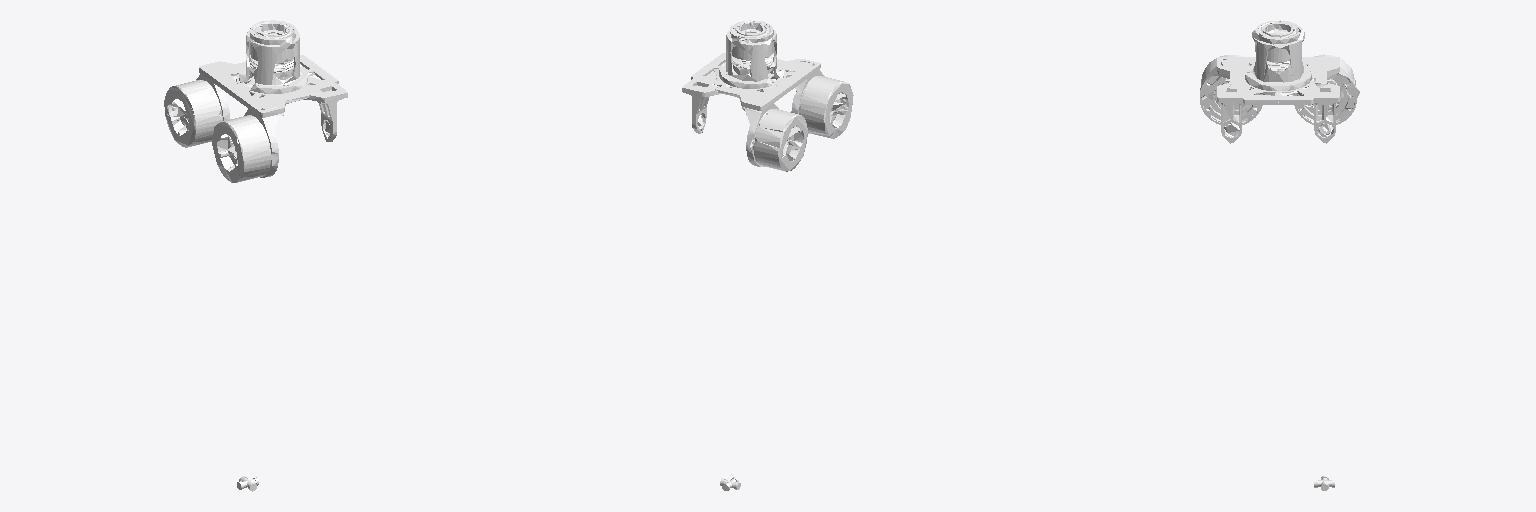
The robot description file, URDF, robot "biped_s31":
<?xml version='1.0' encoding='utf-8'?>
<robot name="biped_s31">
  <mujoco>
    <compiler meshdir="../meshes/" balanceinertia="true" discardvisual="false" />
  </mujoco>
  <link name="dummy_link" />
  <link name="base_link">
    <inertial>
      <origin xyz="-0.00505 0.0014 0.18077" rpy="0 0 0" />
      <mass value="25.4544" />
      <inertia ixx="0.28214" ixy="3e-05" ixz="0.01114" iyy="0.20534" iyz="0.00044" izz="0.13735" />
    </inertial>
    <visual>
      <origin xyz="0 0 0" rpy="0 0 0" />
      <geometry>
        <mesh filename="package://kuavo_assets/models/biped_s41/meshes/base_link.STL" />
      </geometry>
      <material name="">
        <color rgba="1 1 1 1" />
      </material>
    </visual>
  </link>
  <joint name="base_link_to_dummy_link" type="fixed">
    <origin xyz="0 0 0" rpy="0 0 0" />
    <parent link="base_link" />
    <child link="dummy_link" />
  </joint>
  <link name="leg_l1_link">
    <inertial>
      <origin xyz="-0.00430148 -2.708e-05 -0.00851195" rpy="0 0 0" />
      <mass value="1.71093115" />
      <inertia ixx="0.00206092" ixy="1.97e-06" ixz="6.944e-05" iyy="0.00277274" iyz="-5.1e-06" izz="0.00370826" />
    </inertial>
    <visual>
      <origin xyz="0 0 0" rpy="0 0 0" />
      <geometry>
        <mesh filename="package://kuavo_assets/models/biped_s41/meshes/l_leg_roll.STL" />
      </geometry>
      <material name="">
        <color rgba="1 1 1 1" />
      </material>
    </visual>
  </link>
  <joint name="leg_l1_joint" type="revolute">
    <origin xyz="-0.0025 0.087 -0.066" rpy="0 0 0" />
    <parent link="base_link" />
    <child link="leg_l1_link" />
    <axis xyz="1 0 0" />
    <limit lower="-0.314159265358979" upper="0.663225115757845" effort="180.0" velocity="23.55" />
  </joint>
  <link name="leg_l2_link">
    <inertial>
      <origin xyz="0.0 -0.00231118 -0.09062539" rpy="0 0 0" />
      <mass value="0.58029165" />
      <inertia ixx="0.00223984" ixy="0.0" ixz="3e-08" iyy="0.00123175" iyz="-6.98e-06" izz="0.00146391" />
    </inertial>
    <visual>
      <origin xyz="0 0 0" rpy="0 0 0" />
      <geometry>
        <mesh filename="package://kuavo_assets/models/biped_s41/meshes/l_leg_yaw.STL" />
      </geometry>
      <material name="">
        <color rgba="1 1 1 1" />
      </material>
    </visual>
  </link>
  <joint name="leg_l2_joint" type="revolute">
    <origin xyz="0 0 0" rpy="0 0 0" />
    <parent link="leg_l1_link" />
    <child link="leg_l2_link" />
    <axis xyz="0 0 1" />
    <limit lower="-0.872664625997165" upper="0.785398163397448" effort="100.0" velocity="41.3433333333333" />
  </joint>
  <link name="leg_l3_link">
    <inertial>
      <origin xyz="0.00150537 0.01199614 -0.08411619" rpy="0 0 0" />
      <mass value="4.50393141" />
      <inertia ixx="0.0389365" ixy="7.866e-05" ixz="0.00102086" iyy="0.03942609" iyz="0.00219138" izz="0.00999961" />
    </inertial>
    <visual>
      <origin xyz="0 0 0" rpy="0 0 0" />
      <geometry>
        <mesh filename="package://kuavo_assets/models/biped_s41/meshes/l_leg_pitch.STL" />
      </geometry>
      <material name="">
        <color rgba="1 1 1 1" />
      </material>
    </visual>
  </link>
  <joint name="leg_l3_joint" type="revolute">
    <origin xyz="0.000500354536093913 -0.00100000000000011 -0.1287" rpy="0 0 0" />
    <parent link="leg_l2_link" />
    <child link="leg_l3_link" />
    <axis xyz="0 1 0" />
    <limit lower="-2.00712863979348" upper="1.5707963267949" effort="100.0" velocity="41.3433333333333" />
  </joint>
  <link name="leg_l4_link">
    <inertial>
      <origin xyz="0.00696242 5.314e-05 -0.11549851" rpy="0 0 0" />
      <mass value="1.62776815" />
      <inertia ixx="0.01243912" ixy="-2.29e-06" ixz="5.881e-05" iyy="0.01229563" iyz="-2.895e-05" izz="0.00097937" />
    </inertial>
    <visual>
      <origin xyz="0 0 0" rpy="0 0 0" />
      <geometry>
        <mesh filename="package://kuavo_assets/models/biped_s41/meshes/l_knee.STL" />
      </geometry>
      <material name="">
        <color rgba="1 1 1 1" />
      </material>
    </visual>
  </link>
  <joint name="leg_l4_joint" type="revolute">
    <origin xyz="-6.87185435835039E-05 0 -0.284" rpy="0 0 0" />
    <parent link="leg_l3_link" />
    <child link="leg_l4_link" />
    <axis xyz="0 1 0" />
    <limit lower="0.0" upper="2.53072741539178" effort="180.0" velocity="23.55" />
  </joint>
  <link name="leg_l5_link">
    <inertial>
      <origin xyz="0.0 0.0 0.0" rpy="0 0 0" />
      <mass value="0.07193524" />
      <inertia ixx="6.92e-06" ixy="0.0" ixz="0.0" iyy="6.92e-06" iyz="0.0" izz="1.218e-05" />
    </inertial>
    <visual>
      <origin xyz="0 0 0" rpy="0 0 0" />
      <geometry>
        <mesh filename="package://kuavo_assets/models/biped_s41/meshes/l_foot_pitch.STL" />
      </geometry>
      <material name="">
        <color rgba="1 1 1 1" />
      </material>
    </visual>
  </link>
  <joint name="leg_l5_joint" type="revolute">
    <origin xyz="-0.000431635992531742 0 -0.346000000000001" rpy="0 0 0" />
    <parent link="leg_l4_link" />
    <child link="leg_l5_link" />
    <axis xyz="0 1 0" />
    <limit lower="-0.872664625997165" upper="0.349065850398866" effort="36.0" velocity="23.0266666666667" />
  </joint>
  <link name="leg_l6_link">
    <inertial>
      <origin xyz="0.03732754 -2.22e-06 -0.03883977" rpy="0 0 0" />
      <mass value="0.49861272" />
      <inertia ixx="0.00039242" ixy="3e-08" ixz="4.664e-05" iyy="0.00158655" iyz="0.0" izz="0.00172576" />
    </inertial>
    <visual>
      <origin xyz="0 0 0" rpy="0 0 0" />
      <geometry>
        <mesh filename="package://kuavo_assets/models/biped_s41/meshes/l_foot_roll.STL" />
      </geometry>
      <material name="">
        <color rgba="1 1 1 1" />
      </material>
    </visual>
  </link>
  <joint name="leg_l6_joint" type="revolute">
    <origin xyz="0 0 0" rpy="0 0 0" />
    <parent link="leg_l5_link" />
    <child link="leg_l6_link" />
    <axis xyz="1 0 0" />
    <limit lower="-0.261799387799149" upper="0.261799387799149" effort="36.0" velocity="23.0266666666667" />
  </joint>
  <link name="ll_foot_toe">
    <collision>
      <origin rpy="0 0 0" xyz="0 0 0" />
      <geometry>
        <sphere radius="0.005" />
      </geometry>
    </collision>
  </link>
  <joint name="ll_foot_toe_joint" type="fixed">
    <origin xyz="0.17084 0.04773 -0.0595" rpy="0 0 0" />
    <parent link="leg_l6_link" />
    <child link="ll_foot_toe" />
  </joint>
  <link name="ll_foot_heel">
    <collision>
      <origin rpy="0 0 0" xyz="0 0 0" />
      <geometry>
        <sphere radius="0.005" />
      </geometry>
    </collision>
  </link>
  <joint name="ll_foot_heel_joint" type="fixed">
    <origin xyz="-0.073164 0.04773 -0.0595" rpy="0 0 0" />
    <parent link="leg_l6_link" />
    <child link="ll_foot_heel" />
  </joint>
  <link name="lr_foot_toe">
    <collision>
      <origin rpy="0 0 0" xyz="0 0 0" />
      <geometry>
        <sphere radius="0.005" />
      </geometry>
    </collision>
  </link>
  <joint name="lr_foot_toe_joint" type="fixed">
    <origin xyz="0.17084 -0.04773 -0.0595" rpy="0 0 0" />
    <parent link="leg_l6_link" />
    <child link="lr_foot_toe" />
  </joint>
  <link name="lr_foot_heel">
    <collision>
      <origin rpy="0 0 0" xyz="0 0 0" />
      <geometry>
        <sphere radius="0.005" />
      </geometry>
    </collision>
  </link>
  <joint name="lr_foot_heel_joint" type="fixed">
    <origin xyz="-0.073164 -0.04773 -0.0595" rpy="0 0 0" />
    <parent link="leg_l6_link" />
    <child link="lr_foot_heel" />
  </joint>
  <link name="l_foot_toe">
    <collision>
      <origin rpy="0 0 0" xyz="0 0 0" />
      <geometry>
        <sphere radius="0.005" />
      </geometry>
    </collision>
  </link>
  <joint name="l_foot_toe_joint" type="fixed">
    <origin xyz="0.17084 0.0 -0.0595" rpy="0 0 0" />
    <parent link="leg_l6_link" />
    <child link="l_foot_toe" />
  </joint>
  <link name="l_foot_heel">
    <collision>
      <origin rpy="0 0 0" xyz="0 0 0" />
      <geometry>
        <sphere radius="0.005" />
      </geometry>
    </collision>
  </link>
  <joint name="l_foot_heel_joint" type="fixed">
    <origin xyz="-0.073164 0.0 -0.0595" rpy="0 0 0" />
    <parent link="leg_l6_link" />
    <child link="l_foot_heel" />
  </joint>
  <link name="leg_r1_link">
    <inertial>
      <origin xyz="-0.00430146 2.709e-05 -0.00851195" rpy="0 0 0" />
      <mass value="1.71093008" />
      <inertia ixx="0.00206092" ixy="-1.97e-06" ixz="6.944e-05" iyy="0.00277274" iyz="5.1e-06" izz="0.00370826" />
    </inertial>
    <visual>
      <origin xyz="0 0 0" rpy="0 0 0" />
      <geometry>
        <mesh filename="package://kuavo_assets/models/biped_s41/meshes/r_leg_roll.STL" />
      </geometry>
      <material name="">
        <color rgba="1 1 1 1" />
      </material>
    </visual>
  </link>
  <joint name="leg_r1_joint" type="revolute">
    <origin xyz="-0.0025 -0.087 -0.066" rpy="0 0 0" />
    <parent link="base_link" />
    <child link="leg_r1_link" />
    <axis xyz="1 0 0" />
    <limit lower="-0.663225115757845" upper="0.314159265358979" effort="180.0" velocity="23.55" />
  </joint>
  <link name="leg_r2_link">
    <inertial>
      <origin xyz="0.0 0.00231118 -0.09062539" rpy="0 0 0" />
      <mass value="0.58029165" />
      <inertia ixx="0.00223984" ixy="0.0" ixz="-3e-08" iyy="0.00123175" iyz="6.98e-06" izz="0.00146391" />
    </inertial>
    <visual>
      <origin xyz="0 0 0" rpy="0 0 0" />
      <geometry>
        <mesh filename="package://kuavo_assets/models/biped_s41/meshes/r_leg_yaw.STL" />
      </geometry>
      <material name="">
        <color rgba="1 1 1 1" />
      </material>
    </visual>
  </link>
  <joint name="leg_r2_joint" type="revolute">
    <origin xyz="0 0 0" rpy="0 0 0" />
    <parent link="leg_r1_link" />
    <child link="leg_r2_link" />
    <axis xyz="0 0 1" />
    <limit lower="-0.785398163397448" upper="0.872664625997165" effort="100.0" velocity="41.3433333333333" />
  </joint>
  <link name="leg_r3_link">
    <inertial>
      <origin xyz="0.00208315 -0.01199644 -0.08411379" rpy="0 0 0" />
      <mass value="4.50385993" />
      <inertia ixx="0.03893478" ixy="-7.792e-05" ixz="0.00103064" iyy="0.03942522" iyz="-0.00219154" izz="0.01000016" />
    </inertial>
    <visual>
      <origin xyz="0 0 0" rpy="0 0 0" />
      <geometry>
        <mesh filename="package://kuavo_assets/models/biped_s41/meshes/r_leg_pitch.STL" />
      </geometry>
      <material name="">
        <color rgba="1 1 1 1" />
      </material>
    </visual>
  </link>
  <joint name="leg_r3_joint" type="revolute">
    <origin xyz="-4.88006581312577E-05 0 -0.1287" rpy="0 0 0" />
    <parent link="leg_r2_link" />
    <child link="leg_r3_link" />
    <axis xyz="0 1 0" />
    <limit lower="-2.00712863979348" upper="1.5707963267949" effort="100.0" velocity="41.3433333333333" />
  </joint>
  <link name="leg_r4_link">
    <inertial>
      <origin xyz="0.00743231 -5.343e-05 -0.11558701" rpy="0 0 0" />
      <mass value="1.62655699" />
      <inertia ixx="0.01241258" ixy="2.28e-06" ixz="6.289e-05" iyy="0.0122692" iyz="2.902e-05" izz="0.00097927" />
    </inertial>
    <visual>
      <origin xyz="0 0 0" rpy="0 0 0" />
      <geometry>
        <mesh filename="package://kuavo_assets/models/biped_s41/meshes/r_knee.STL" />
      </geometry>
      <material name="">
        <color rgba="1 1 1 1" />
      </material>
    </visual>
  </link>
  <joint name="leg_r4_joint" type="revolute">
    <origin xyz="0.000147138572785148 0 -0.283999982974744" rpy="0 0 0" />
    <parent link="leg_r3_link" />
    <child link="leg_r4_link" />
    <axis xyz="0 1 0" />
    <limit lower="0.0" upper="2.53072741539178" effort="180.0" velocity="23.55" />
  </joint>
  <link name="leg_r5_link">
    <inertial>
      <origin xyz="0.0 0.0 0.0" rpy="0 0 0" />
      <mass value="0.07193524" />
      <inertia ixx="6.92e-06" ixy="0.0" ixz="0.0" iyy="6.92e-06" iyz="0.0" izz="1.218e-05" />
    </inertial>
    <visual>
      <origin xyz="0 0 0" rpy="0 0 0" />
      <geometry>
        <mesh filename="package://kuavo_assets/models/biped_s41/meshes/r_foot_pitch.STL" />
      </geometry>
      <material name="">
        <color rgba="1 1 1 1" />
      </material>
    </visual>
  </link>
  <joint name="leg_r5_joint" type="revolute">
    <origin xyz="0.000119806050928577 0 -0.345999979257963" rpy="0 0 0" />
    <parent link="leg_r4_link" />
    <child link="leg_r5_link" />
    <axis xyz="0 1 0" />
    <limit lower="-0.872664625997165" upper="0.349065850398866" effort="36.0" velocity="23.0266666666667" />
  </joint>
  <link name="leg_r6_link">
    <inertial>
      <origin xyz="0.03734098 -2.22e-06 -0.03882684" rpy="0 0 0" />
      <mass value="0.49861272" />
      <inertia ixx="0.00039238" ixy="3e-08" ixz="4.618e-05" iyy="0.00158655" iyz="0.0" izz="0.00172579" />
    </inertial>
    <visual>
      <origin xyz="0 0 0" rpy="0 0 0" />
      <geometry>
        <mesh filename="package://kuavo_assets/models/biped_s41/meshes/r_foot_roll.STL" />
      </geometry>
      <material name="">
        <color rgba="1 1 1 1" />
      </material>
    </visual>
  </link>
  <joint name="leg_r6_joint" type="revolute">
    <origin xyz="0 0 0" rpy="0 0 0" />
    <parent link="leg_r5_link" />
    <child link="leg_r6_link" />
    <axis xyz="1 0 0" />
    <limit lower="-0.261799387799149" upper="0.261799387799149" effort="36.0" velocity="23.0266666666667" />
  </joint>
  <link name="rl_foot_toe">
    <collision>
      <origin rpy="0 0 0" xyz="0 0 0" />
      <geometry>
        <sphere radius="0.005" />
      </geometry>
    </collision>
  </link>
  <joint name="rl_foot_toe_joint" type="fixed">
    <origin xyz="0.17084 0.04773 -0.0595" rpy="0 0 0" />
    <parent link="leg_r6_link" />
    <child link="rl_foot_toe" />
  </joint>
  <link name="rl_foot_heel">
    <collision>
      <origin rpy="0 0 0" xyz="0 0 0" />
      <geometry>
        <sphere radius="0.005" />
      </geometry>
    </collision>
  </link>
  <joint name="rl_foot_heel_joint" type="fixed">
    <origin xyz="-0.073164 0.04773 -0.0595" rpy="0 0 0" />
    <parent link="leg_r6_link" />
    <child link="rl_foot_heel" />
  </joint>
  <link name="rr_foot_toe">
    <collision>
      <origin rpy="0 0 0" xyz="0 0 0" />
      <geometry>
        <sphere radius="0.005" />
      </geometry>
    </collision>
  </link>
  <joint name="rr_foot_toe_joint" type="fixed">
    <origin xyz="0.17084 -0.04773 -0.0595" rpy="0 0 0" />
    <parent link="leg_r6_link" />
    <child link="rr_foot_toe" />
  </joint>
  <link name="rr_foot_heel">
    <collision>
      <origin rpy="0 0 0" xyz="0 0 0" />
      <geometry>
        <sphere radius="0.005" />
      </geometry>
    </collision>
  </link>
  <joint name="rr_foot_heel_joint" type="fixed">
    <origin xyz="-0.073164 -0.04773 -0.0595" rpy="0 0 0" />
    <parent link="leg_r6_link" />
    <child link="rr_foot_heel" />
  </joint>
  <link name="r_foot_toe">
    <collision>
      <origin rpy="0 0 0" xyz="0 0 0" />
      <geometry>
        <sphere radius="0.005" />
      </geometry>
    </collision>
  </link>
  <joint name="r_foot_toe_joint" type="fixed">
    <origin xyz="0.17084 0.0 -0.0595" rpy="0 0 0" />
    <parent link="leg_r6_link" />
    <child link="r_foot_toe" />
  </joint>
  <link name="r_foot_heel">
    <collision>
      <origin rpy="0 0 0" xyz="0 0 0" />
      <geometry>
        <sphere radius="0.005" />
      </geometry>
    </collision>
  </link>
  <joint name="r_foot_heel_joint" type="fixed">
    <origin xyz="-0.073164 0.0 -0.0595" rpy="0 0 0" />
    <parent link="leg_r6_link" />
    <child link="r_foot_heel" />
  </joint>
  <link name="zarm_l1_link">
    <inertial>
      <origin xyz="0.008 -0.00158 0.0036" rpy="0 0 0" />
      <mass value="1.15" />
      <inertia ixx="0.0006" ixy="5e-05" ixz="1e-05" iyy="0.00048" iyz="-6e-05" izz="0.0007" />
    </inertial>
    <visual>
      <origin xyz="0 0 0" rpy="0 0 0" />
      <geometry>
        <mesh filename="package://kuavo_assets/models/biped_s41/meshes/l_arm_pitch.STL" />
      </geometry>
      <material name="">
        <color rgba="1 1 1 1" />
      </material>
    </visual>
  </link>
  <joint name="zarm_l1_joint" type="revolute">
    <origin xyz="-0.0175 0.25886 0.3245" rpy="0 0 0" />
    <parent link="base_link" />
    <child link="zarm_l1_link" />
    <axis xyz="0 1 0" />
    <limit lower="-2.61799387799149" upper="0.523598775598299" effort="100.0" velocity="41.3433333333333" />
  </joint>
  <link name="zarm_r1_link">
    <inertial>
      <origin xyz="0.008 0.00158 -0.0036" rpy="0 0 0" />
      <mass value="1.15" />
      <inertia ixx="0.0006" ixy="-5e-05" ixz="-1e-05" iyy="0.00048" iyz="-6e-05" izz="0.0007" />
    </inertial>
    <visual>
      <origin xyz="0 0 0" rpy="0 0 0" />
      <geometry>
        <mesh filename="package://kuavo_assets/models/biped_s41/meshes/r_arm_pitch.STL" />
      </geometry>
      <material name="">
        <color rgba="1 1 1 1" />
      </material>
    </visual>
  </link>
  <joint name="zarm_r1_joint" type="revolute">
    <origin xyz="-0.0175 -0.25886 0.3245" rpy="0 0 0" />
    <parent link="base_link" />
    <child link="zarm_r1_link" />
    <axis xyz="0 1 0" />
    <limit lower="-2.61799387799149" upper="0.523598775598299" effort="100.0" velocity="41.3433333333333" />
  </joint>
</robot>

--- What the picture shows (computed from the rendered views, not written in the file) ---
The picture shows the robot from 3 angles, left to right: view 1: azimuth 30°, elevation 25°; view 2: azimuth 150°, elevation 25°; view 3: azimuth 270°, elevation 25°; orthographic projection.
Robot: biped_s31 — 28 links, 27 joints (14 revolute, 13 fixed); root link base_link; default pose: all joints at 0.
Visible links, largest first — view 1: base_link; view 2: base_link; view 3: base_link.
Link boxes in pixels (x1=…): base_link: x1=164, y1=20, x2=347, y2=182; base_link: x1=682, y1=20, x2=853, y2=171; base_link: x1=1200, y1=20, x2=1359, y2=143.
Bounding box of the posed robot: 0.2502 × 0.2993 × 0.9417 m (x, y, z).
Meshes: 15 distinct files referenced, 2 mesh visuals loaded (2 binary STL); not drawn: 13 (reference not matched to a file when rendering).